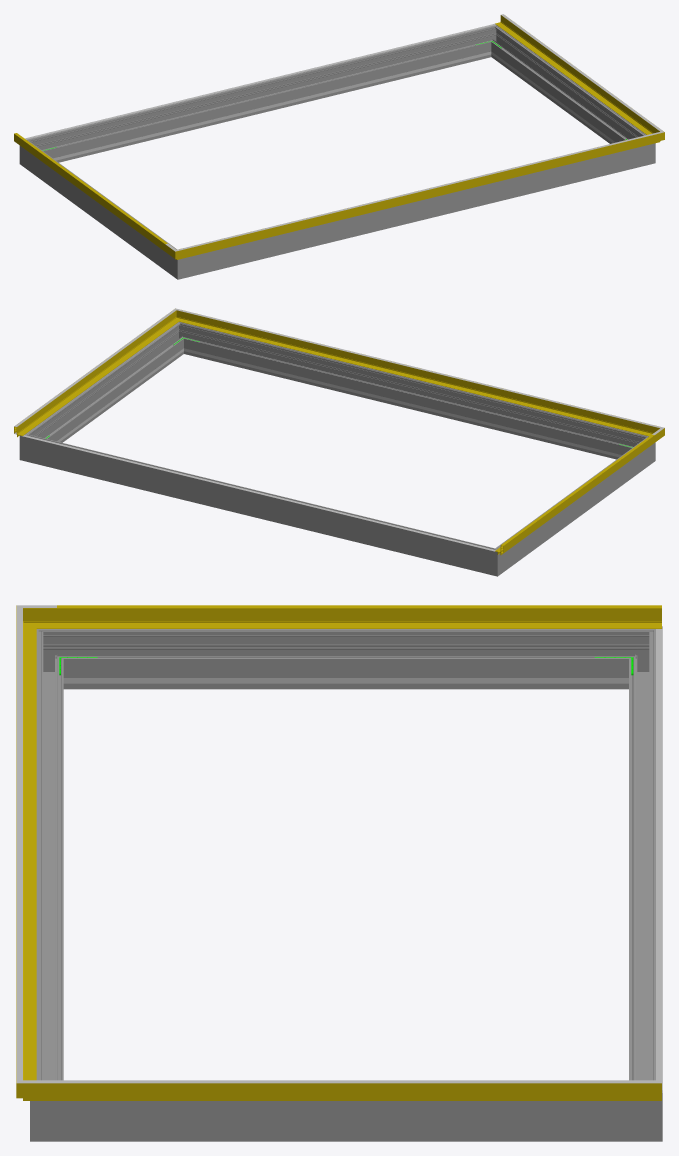
The picture shows the model from 3 angles, top to bottom: view 1: azimuth 30°, elevation 25°; view 2: azimuth 150°, elevation 25°; view 3: azimuth 270°, elevation 25°; orthographic projection. The views are drawn at different scales.
Parts seen in each view (by area): view 1: 3DGeom-278, 3DGeom-300, 3DGeom-299, 3DGeom-56, 3DGeom-270, 3DGeom-58, 3DGeom-246, 3DGeom-50, 3DGeom-222, 3DGeom-66, 3DGeom-272, 3DGeom-64 (+3 smaller); view 2: 3DGeom-300, 3DGeom-278, 3DGeom-56, 3DGeom-299, 3DGeom-270, 3DGeom-58, 3DGeom-241, 3DGeom-50, 3DGeom-222, 3DGeom-66, 3DGeom-280, 3DGeom-286 (+4 smaller); view 3: 3DGeom-270, 3DGeom-299, 3DGeom-50, 3DGeom-300, 3DGeom-278, 3DGeom-58, 3DGeom-56, 3DGeom-222, 3DGeom-66, 3DGeom-234, 3DGeom-64, 3DGeom-71 (+5 smaller).
Part boxes in pixels (bbox=[...]): 3DGeom-278: bbox=[38, 28, 488, 162]; 3DGeom-300: bbox=[195, 147, 638, 275]; 3DGeom-299: bbox=[493, 31, 642, 143]; 3DGeom-56: bbox=[191, 136, 647, 256]; 3DGeom-270: bbox=[29, 145, 172, 271]; 3DGeom-58: bbox=[495, 15, 651, 134]; 3DGeom-246: bbox=[59, 55, 474, 159]; 3DGeom-50: bbox=[14, 134, 165, 251]; 3DGeom-222: bbox=[25, 24, 495, 139]; 3DGeom-66: bbox=[191, 135, 646, 247]; 3DGeom-272: bbox=[167, 246, 195, 279]; 3DGeom-64: bbox=[501, 14, 654, 125]; 3DGeom-300: bbox=[187, 325, 636, 459]; 3DGeom-278: bbox=[37, 437, 482, 572]; 3DGeom-56: bbox=[188, 314, 645, 434]; 3DGeom-299: bbox=[32, 328, 182, 442]; 3DGeom-270: bbox=[502, 442, 645, 568]; 3DGeom-58: bbox=[14, 316, 173, 437]; 3DGeom-241: bbox=[201, 352, 615, 456]; 3DGeom-50: bbox=[495, 435, 654, 555]; 3DGeom-222: bbox=[22, 435, 495, 551]; 3DGeom-66: bbox=[191, 312, 646, 424]; 3DGeom-280: bbox=[480, 543, 507, 576]; 3DGeom-286: bbox=[19, 429, 39, 463]; 3DGeom-270: bbox=[70, 629, 622, 689]; 3DGeom-299: bbox=[70, 1101, 622, 1141]; 3DGeom-50: bbox=[56, 608, 661, 628]; 3DGeom-300: bbox=[36, 643, 63, 1080]; 3DGeom-278: bbox=[629, 643, 662, 1080]; 3DGeom-58: bbox=[56, 1083, 661, 1100]; 3DGeom-56: bbox=[16, 622, 36, 1080]; 3DGeom-222: bbox=[656, 629, 662, 1089]; 3DGeom-66: bbox=[16, 622, 22, 1065]; 3DGeom-234: bbox=[102, 678, 589, 683]; 3DGeom-64: bbox=[57, 1080, 661, 1083]; 3DGeom-71: bbox=[57, 605, 661, 607].
Bounding box in the file's own units: 4.27 × 0.2669 × 2.44.
